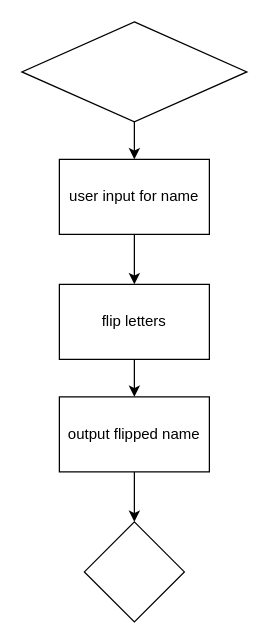
The diagram is 269 pixels wide and 644 high, and some of its shapes have lost their labels. The centre of each missing label's shape, as x and y in pixels:
end: (133,571)
start: (134,71)
